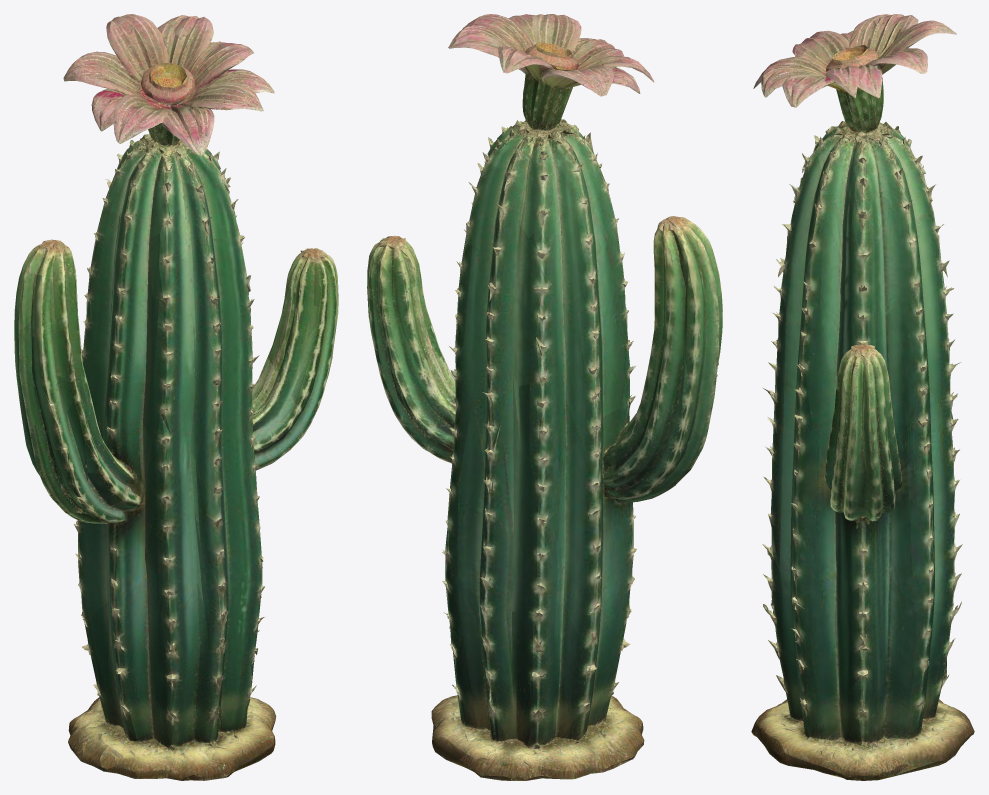
File: plant-cactus-final.glb
3 views of the same model, side by side, from view 1: azimuth 30°, elevation 25°; view 2: azimuth 150°, elevation 25°; view 3: azimuth 270°, elevation 25° (orthographic). The views are drawn at different scales.
Visible parts, largest first — view 1: output_unwrapped; view 2: output_unwrapped; view 3: output_unwrapped.
Boxes of the visible parts, bbox=[...] form: output_unwrapped: bbox=[14, 14, 338, 780]; output_unwrapped: bbox=[367, 14, 722, 780]; output_unwrapped: bbox=[751, 14, 974, 780].
Bounding box in the file's own units: 4.9 × 10 × 2.87.
Materials: 1 (1 with a texture image).
